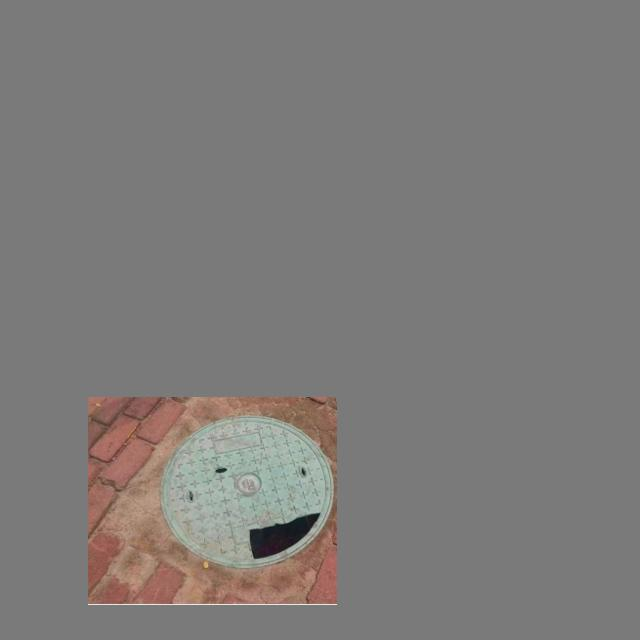broke: (163, 418, 324, 562)
